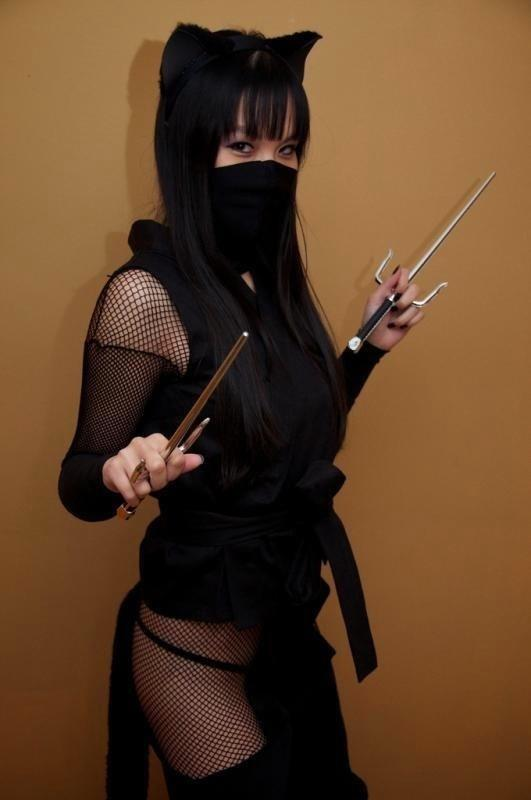OK: (208, 115, 305, 231)
